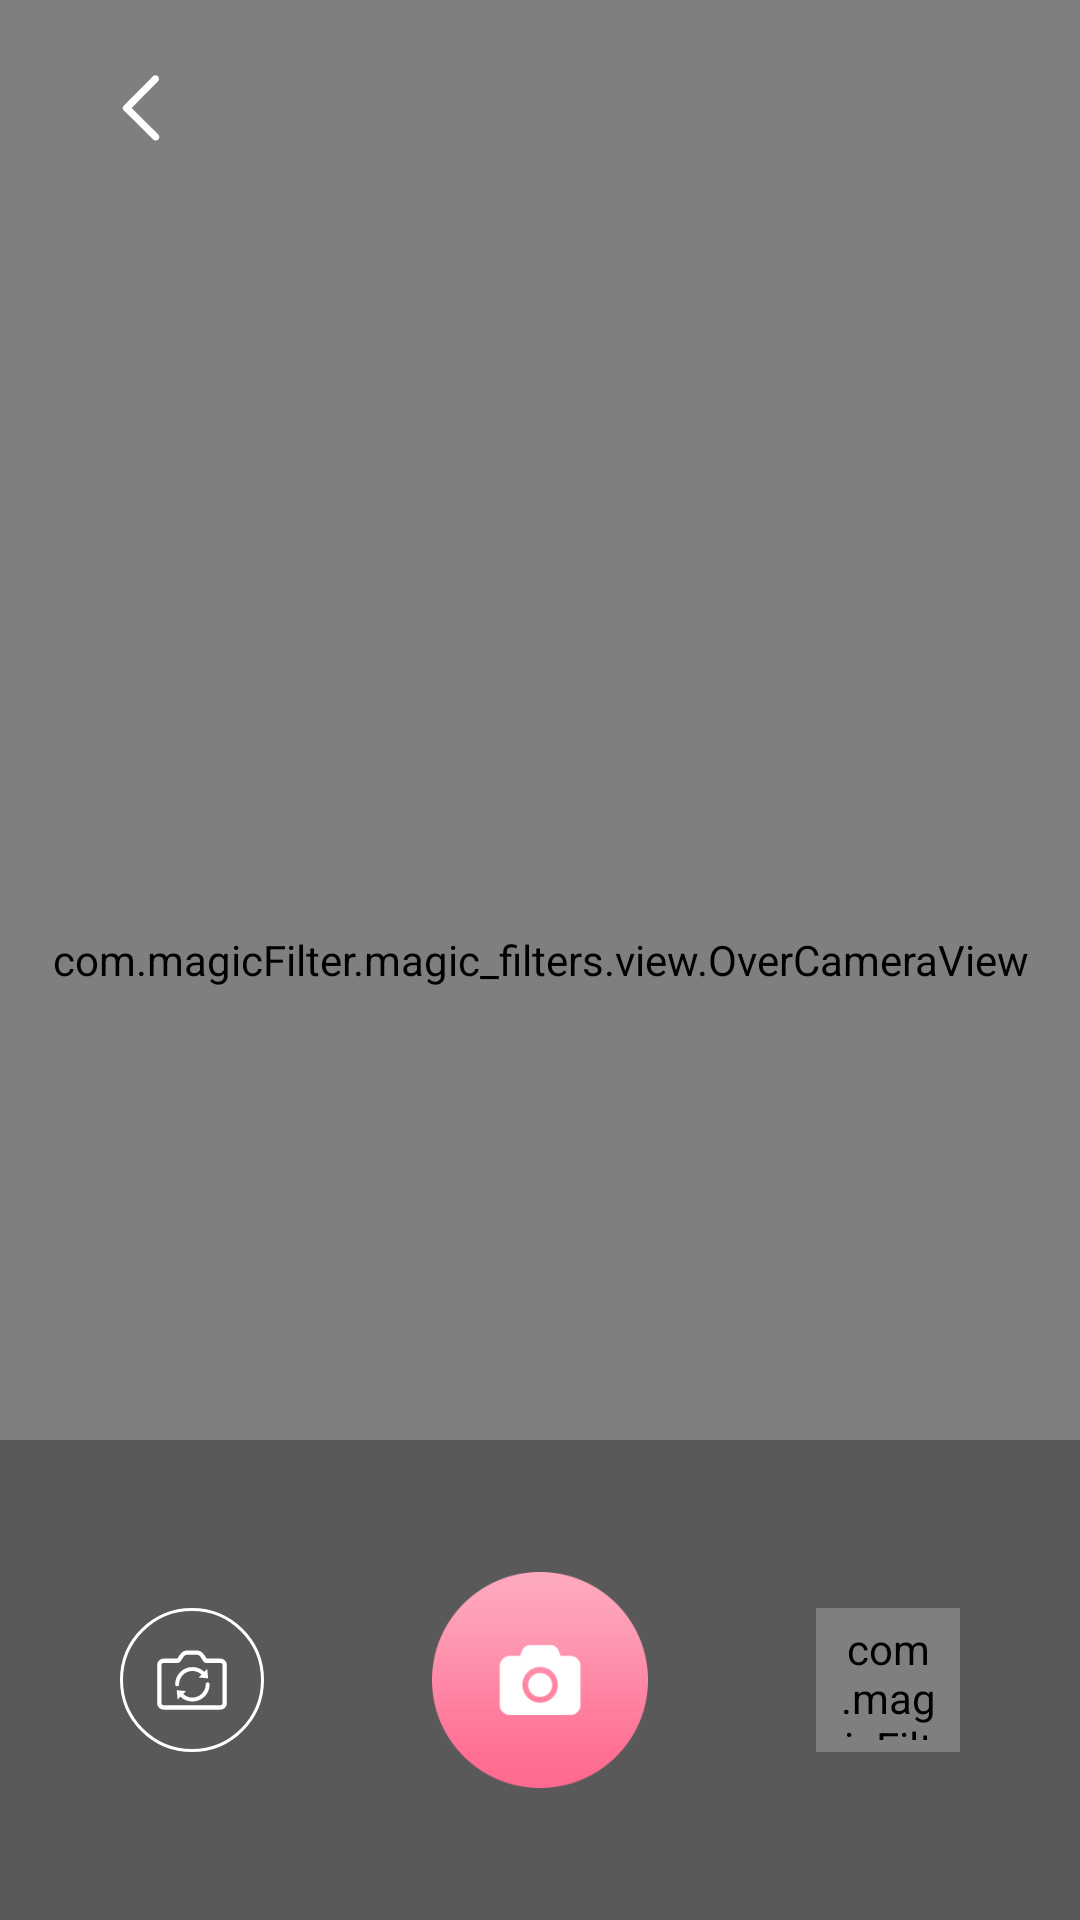

Where to tap for icons on this 1080*1920 app screen, as (x=x, y=y):
back: (x=141, y=108)
switch camera: (x=192, y=1680)
take photo: (x=540, y=1680)
